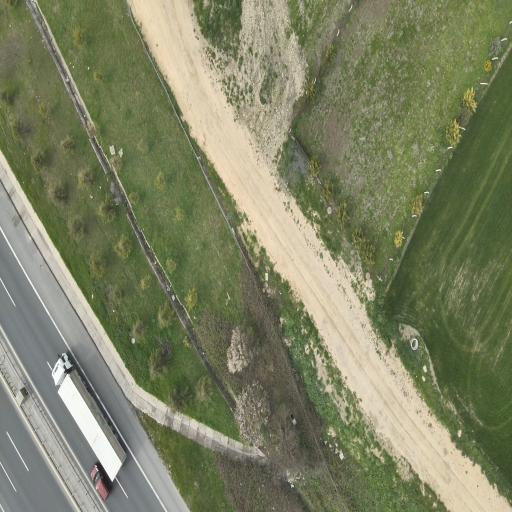car: (52, 353, 126, 481), (91, 464, 111, 501)
